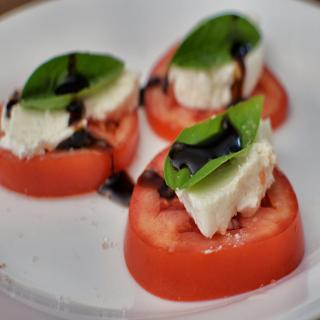Cheese: (0, 66, 141, 157), (175, 116, 277, 236), (170, 41, 266, 109)
Tomato: (117, 121, 287, 304), (142, 42, 289, 138), (0, 110, 139, 198)
